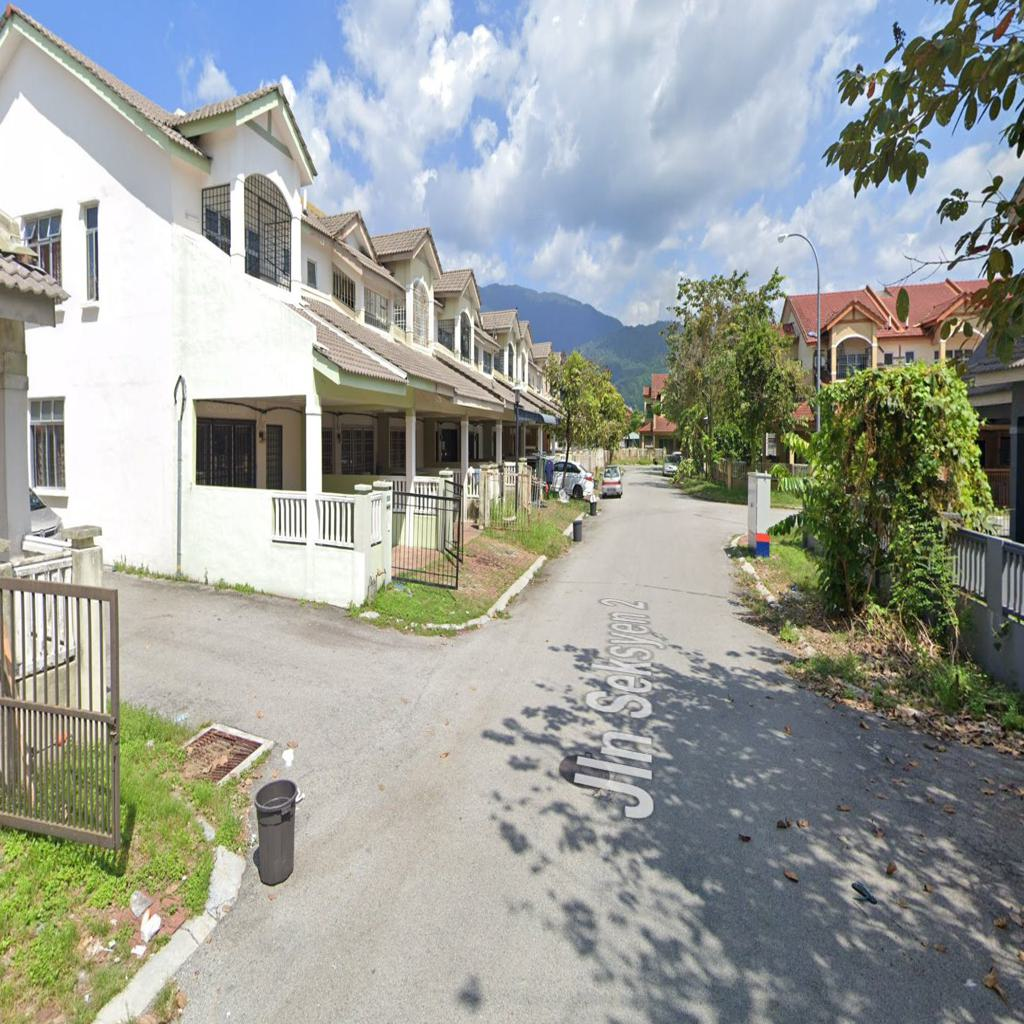Junction: (105, 537, 507, 877)
